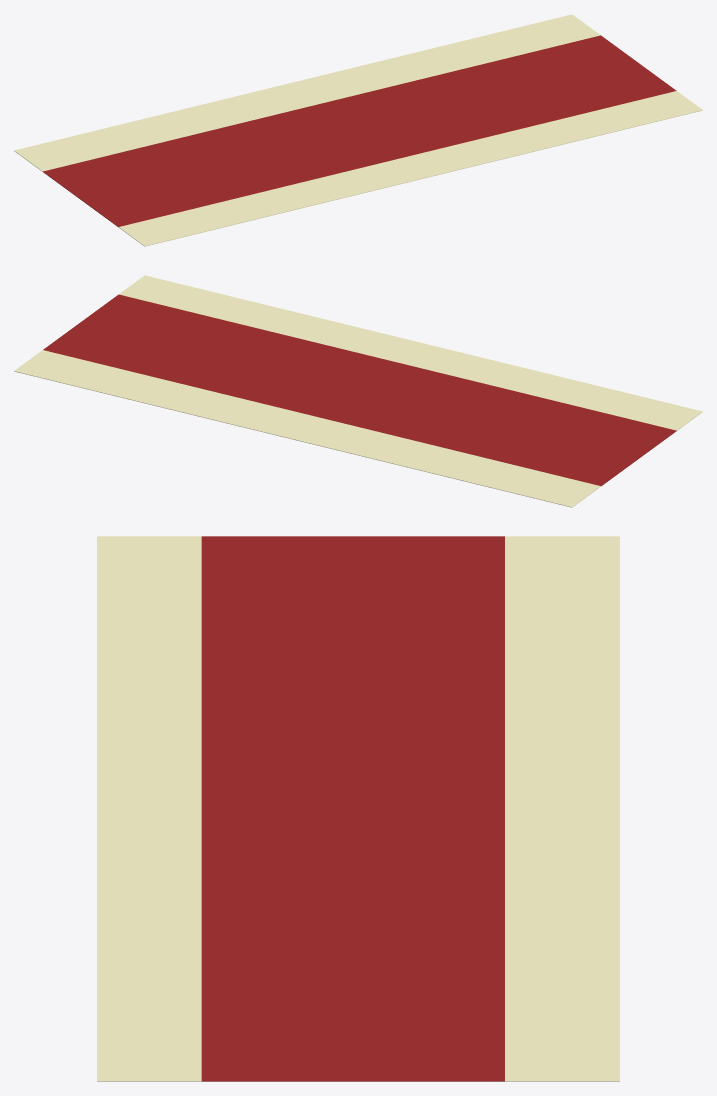
Rendered from Prop_Fantasy_Rug_Carpet_Runner_01.FBX.
3 renders of one model, top to bottom at view 1: azimuth 30°, elevation 25°; view 2: azimuth 150°, elevation 25°; view 3: azimuth 270°, elevation 25°, orthographic. The views are drawn at different scales.
Parts seen in each view (by area): view 1: Prop_Fantasy_Rug_Carpet_Runner_01; view 2: Prop_Fantasy_Rug_Carpet_Runner_01; view 3: Prop_Fantasy_Rug_Carpet_Runner_01.
Part boxes in pixels (bbox=[...]): Prop_Fantasy_Rug_Carpet_Runner_01: bbox=[14, 14, 702, 246]; Prop_Fantasy_Rug_Carpet_Runner_01: bbox=[14, 275, 702, 507]; Prop_Fantasy_Rug_Carpet_Runner_01: bbox=[97, 536, 619, 1081].
Bounding box in the file's own units: 5016 × 3.73 × 2036.
